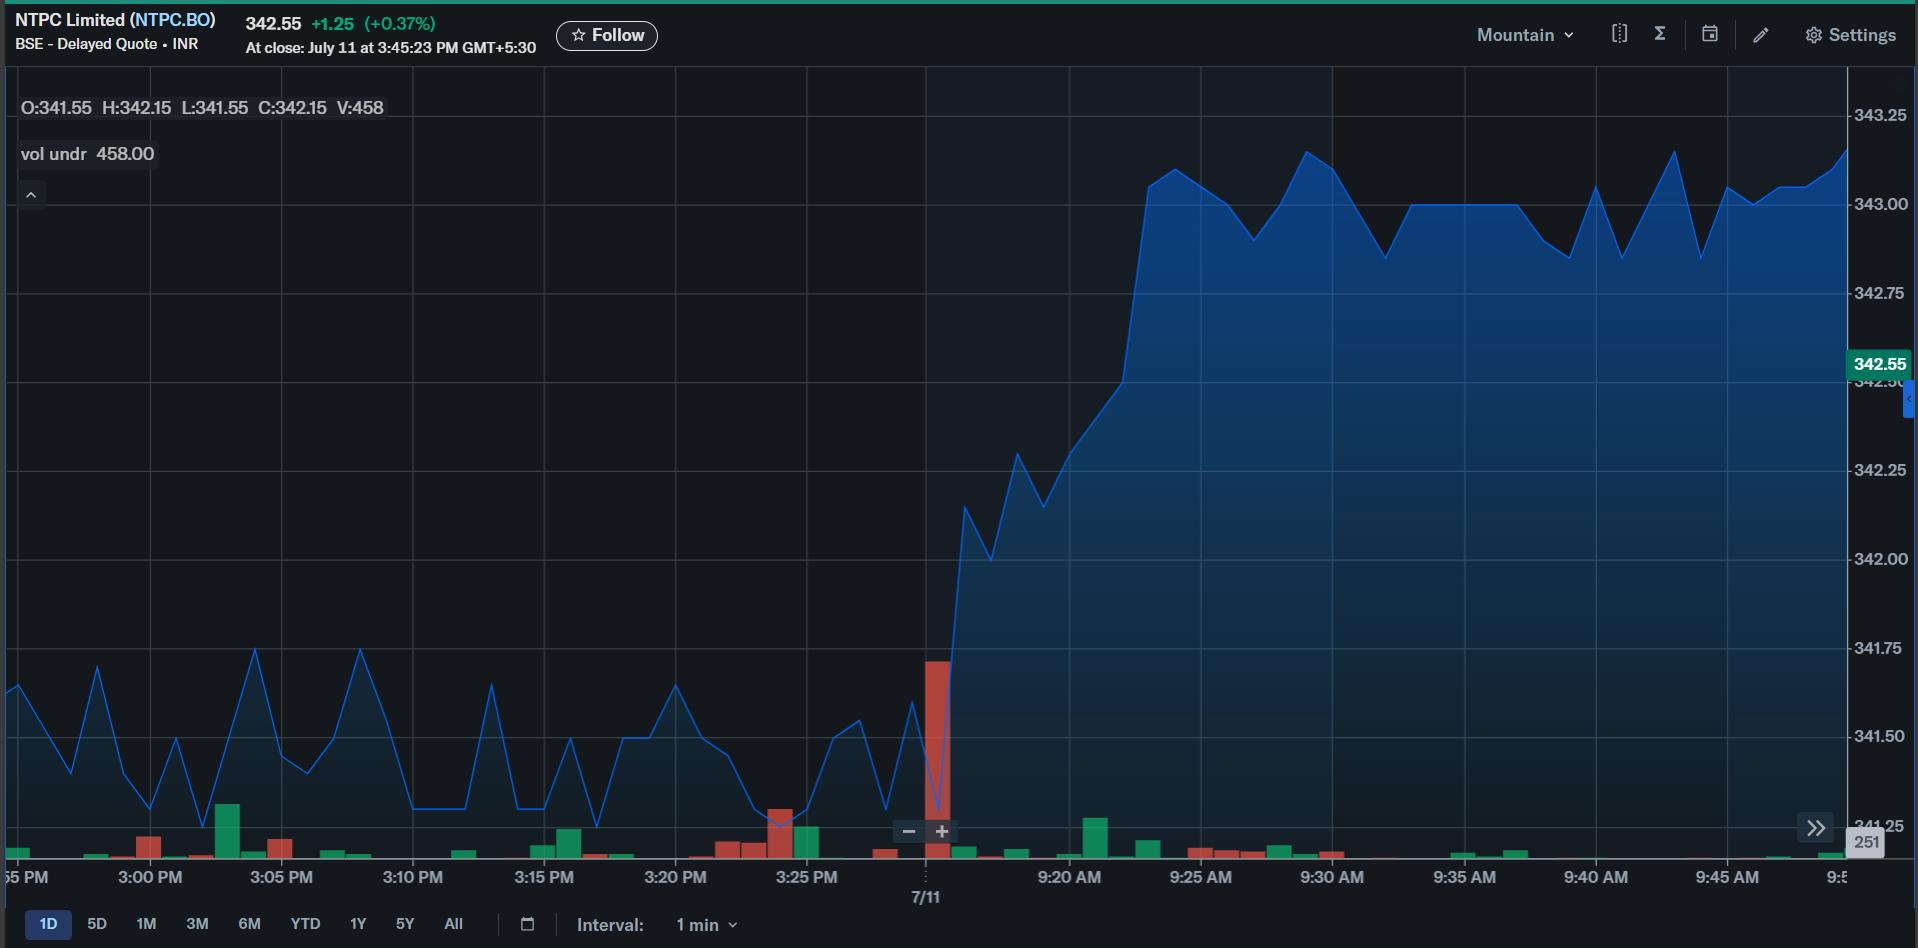Downtrend: (1308, 131, 1388, 314)
Sideways: (1390, 169, 1623, 336)
Uptrend: (1039, 137, 1177, 547), (199, 626, 268, 833)
